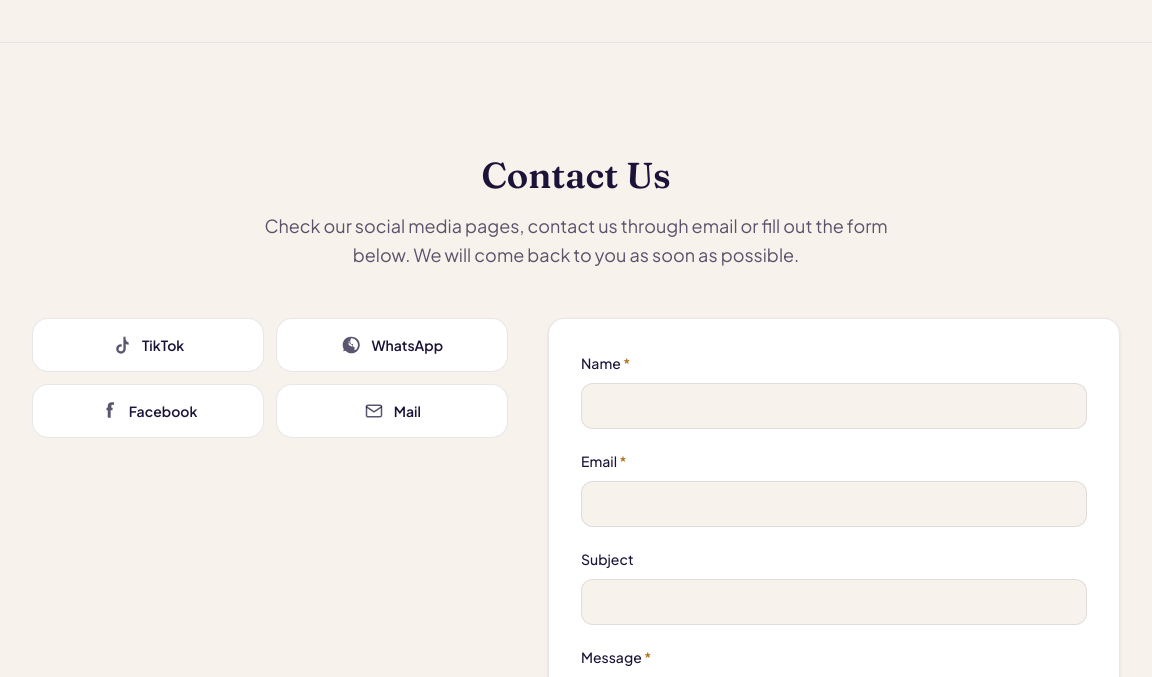
it: ContactPage security › shows an error when sending fails
(page scrolled)
Type "Ada" into the field labelled "Name *" at (834, 406), box 581,383 -> 1087,429
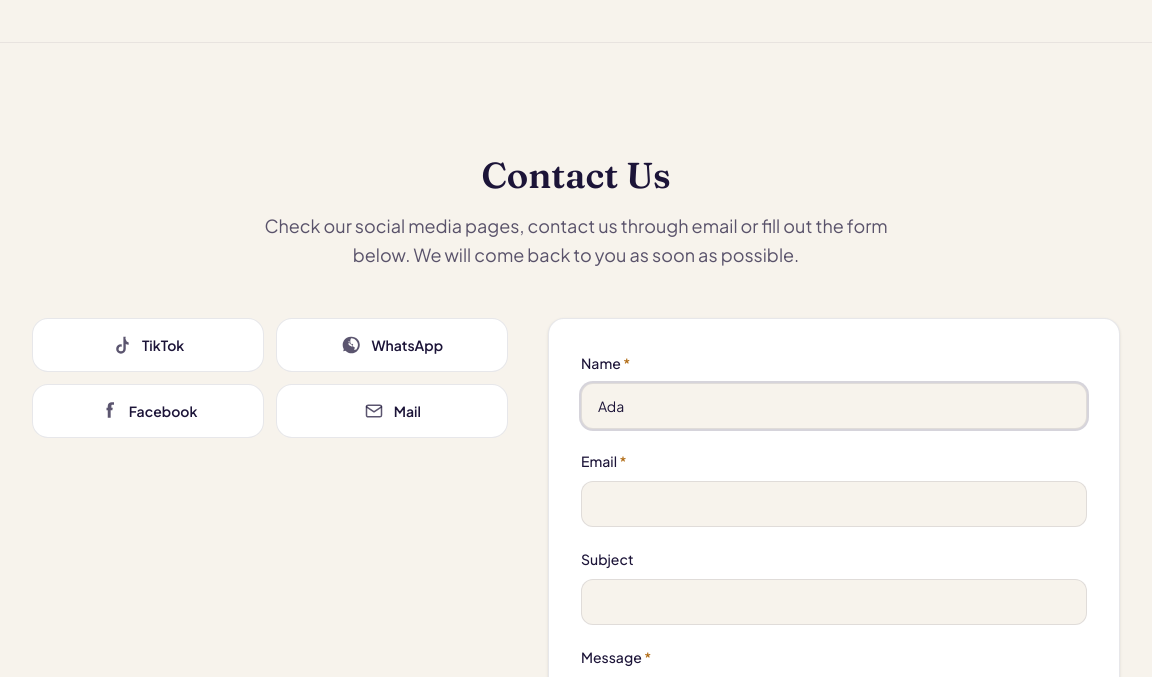
Type "ada@example.com" into the field labelled "Email *" at (834, 504), box 581,481 -> 1087,527
(page scrolled)
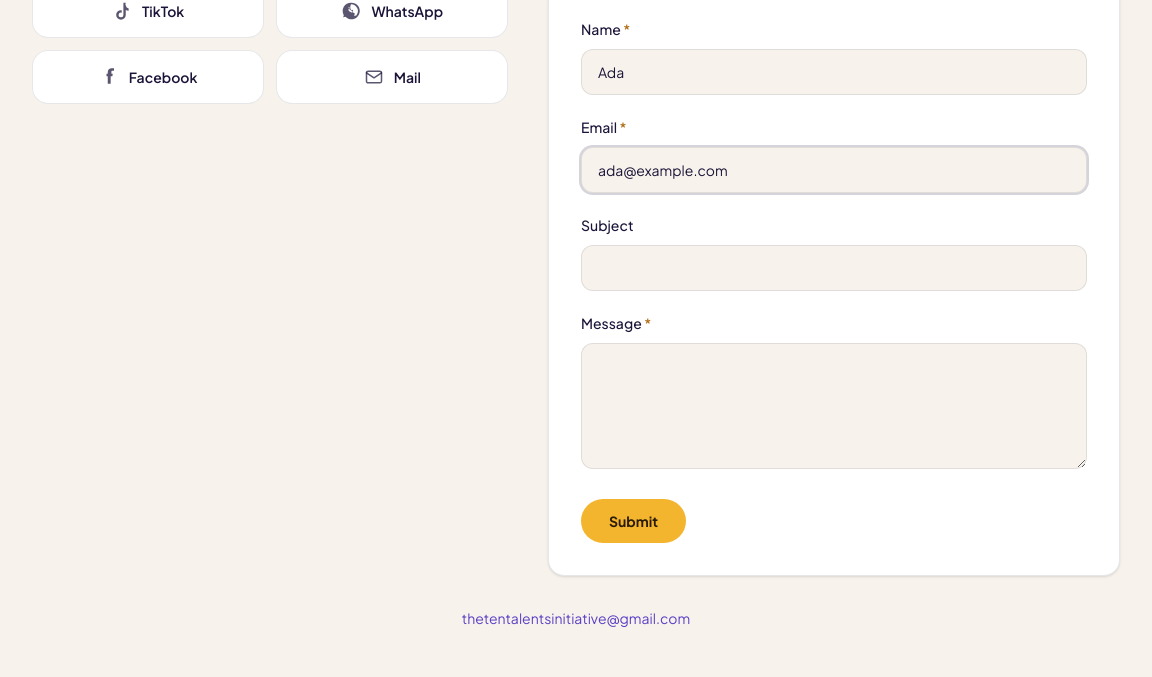
Type "Hello" into the text box labelled "Message *" at (834, 406), box 581,343 -> 1087,469
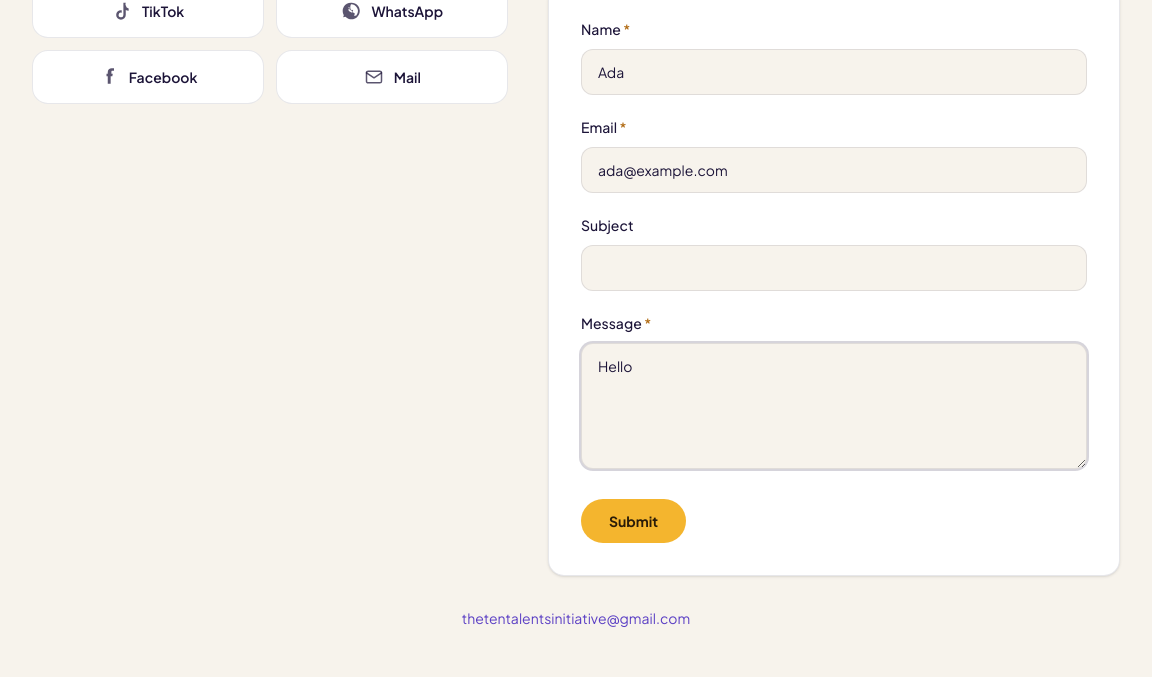
Click the button "Submit" at (634, 521), box 581,499 -> 686,543
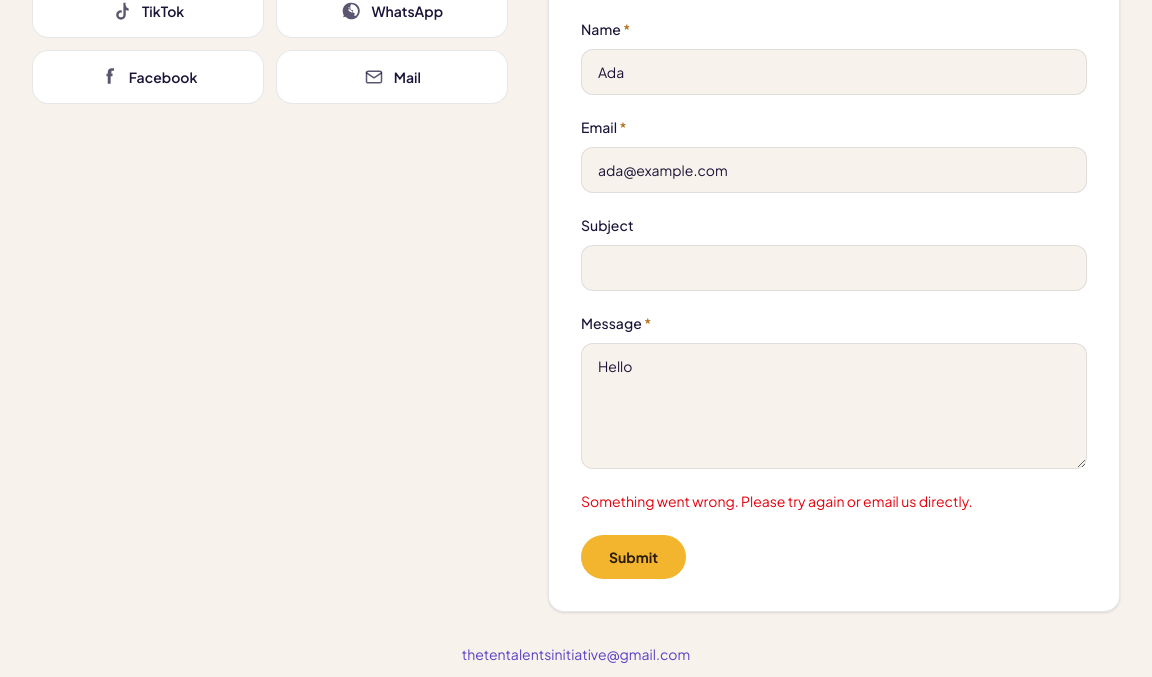
expect the message reads "Something went wrong. Please try again or email us directly.": met, box 581,492 -> 973,510
